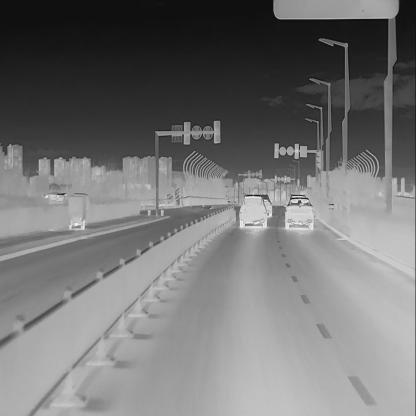car: (238, 193, 269, 228), (284, 197, 314, 232), (66, 189, 90, 229), (258, 193, 273, 218)
